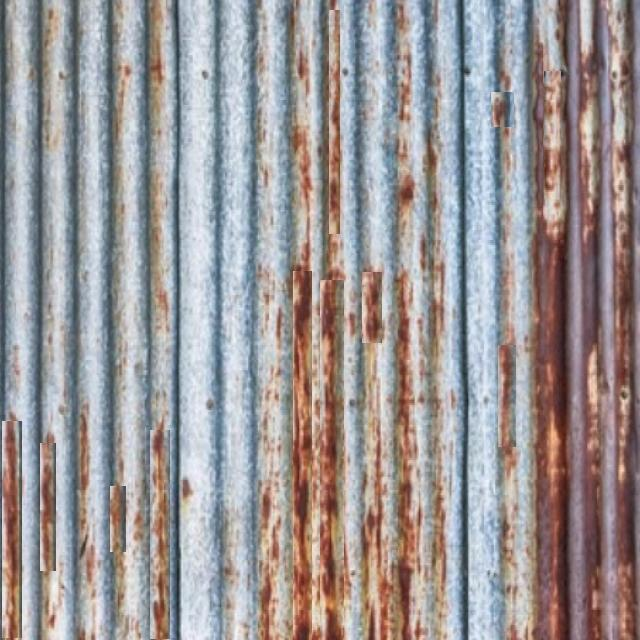Corrosion: (568, 207, 607, 640), (535, 211, 569, 640), (590, 345, 636, 640), (534, 41, 564, 210)
